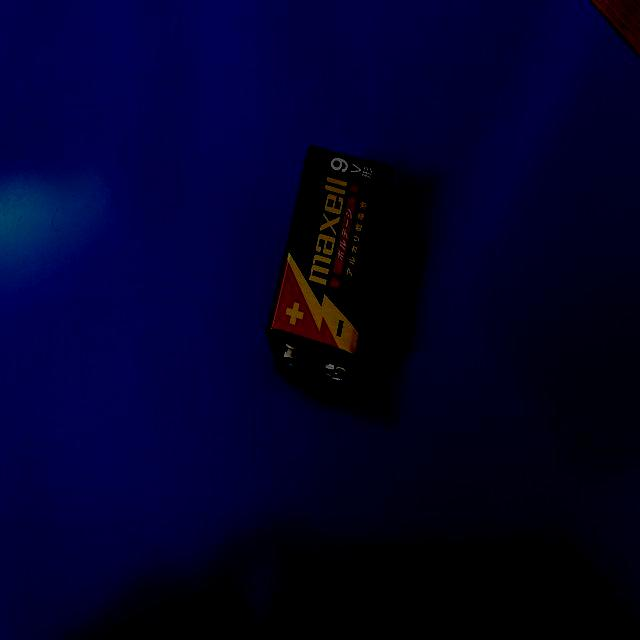9V: (268, 145, 392, 383)
